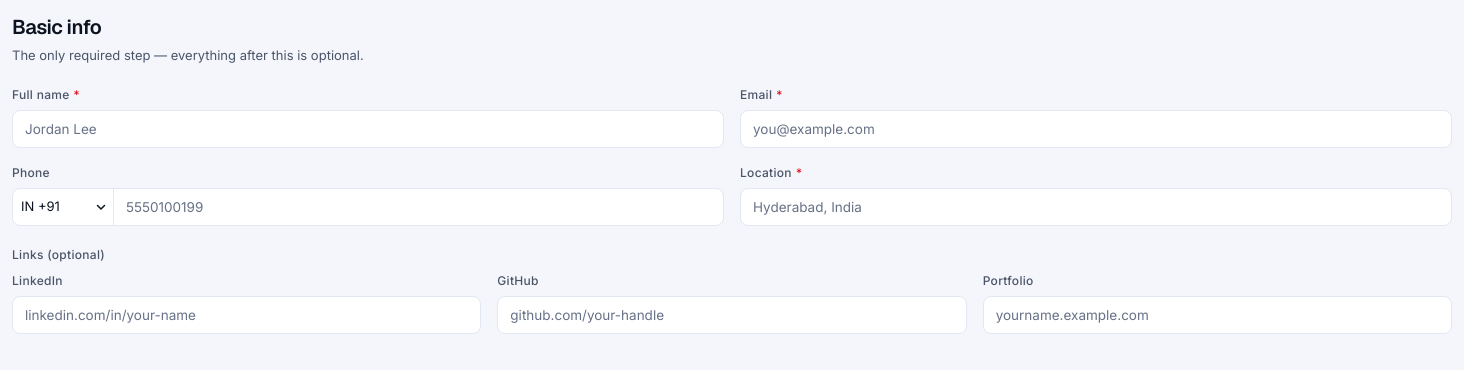
Scenario: BasicInfoForm › validation on blur › flags a link that doesn't look like a URL once blurred
Type "not a url" into the field with placeholder "linkedin.com/in/your-name" at (247, 315), box [12,296,481,334]
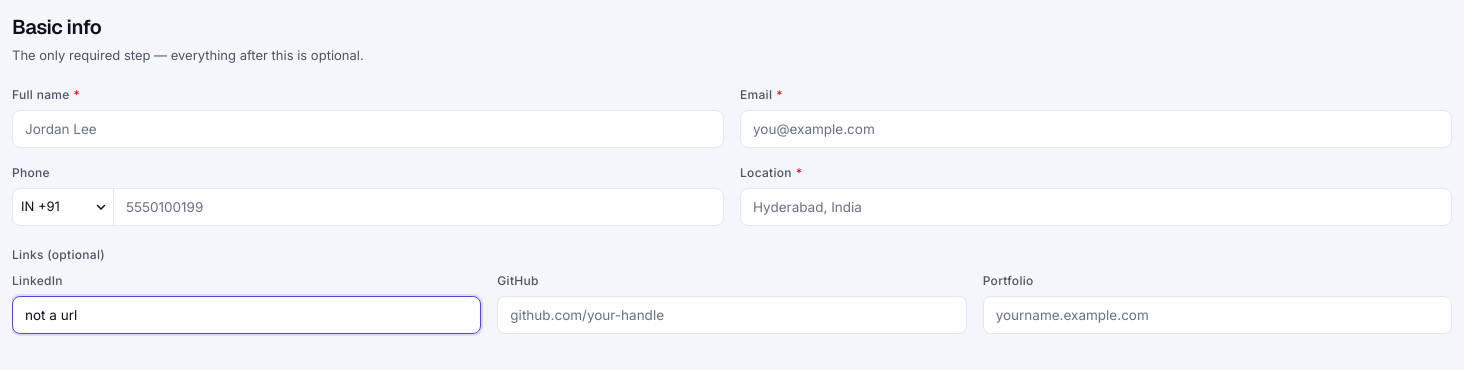
Press Tab
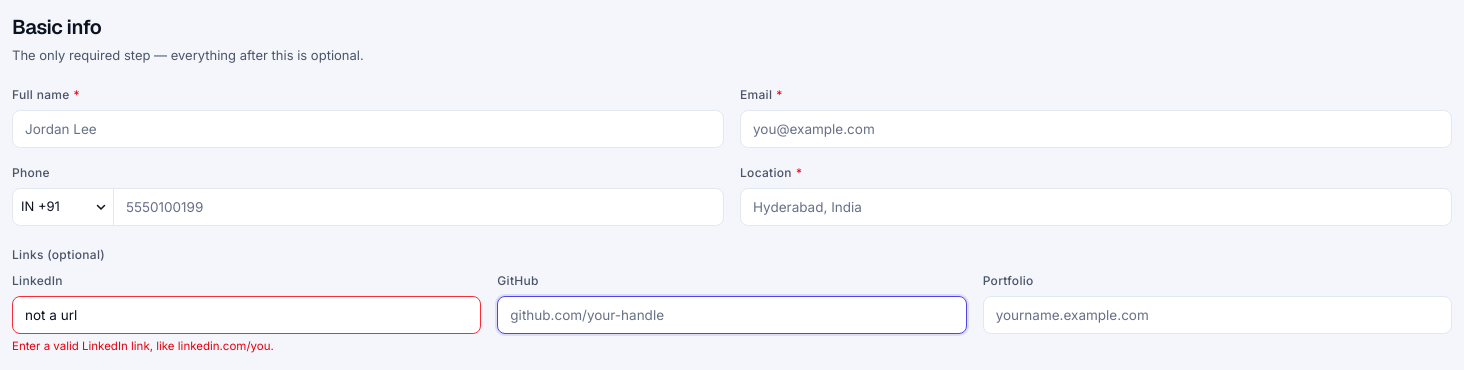
expect the text "Enter a valid LinkedIn link, like linkedin.com/you." is shown: met, box [12,339,274,353]
